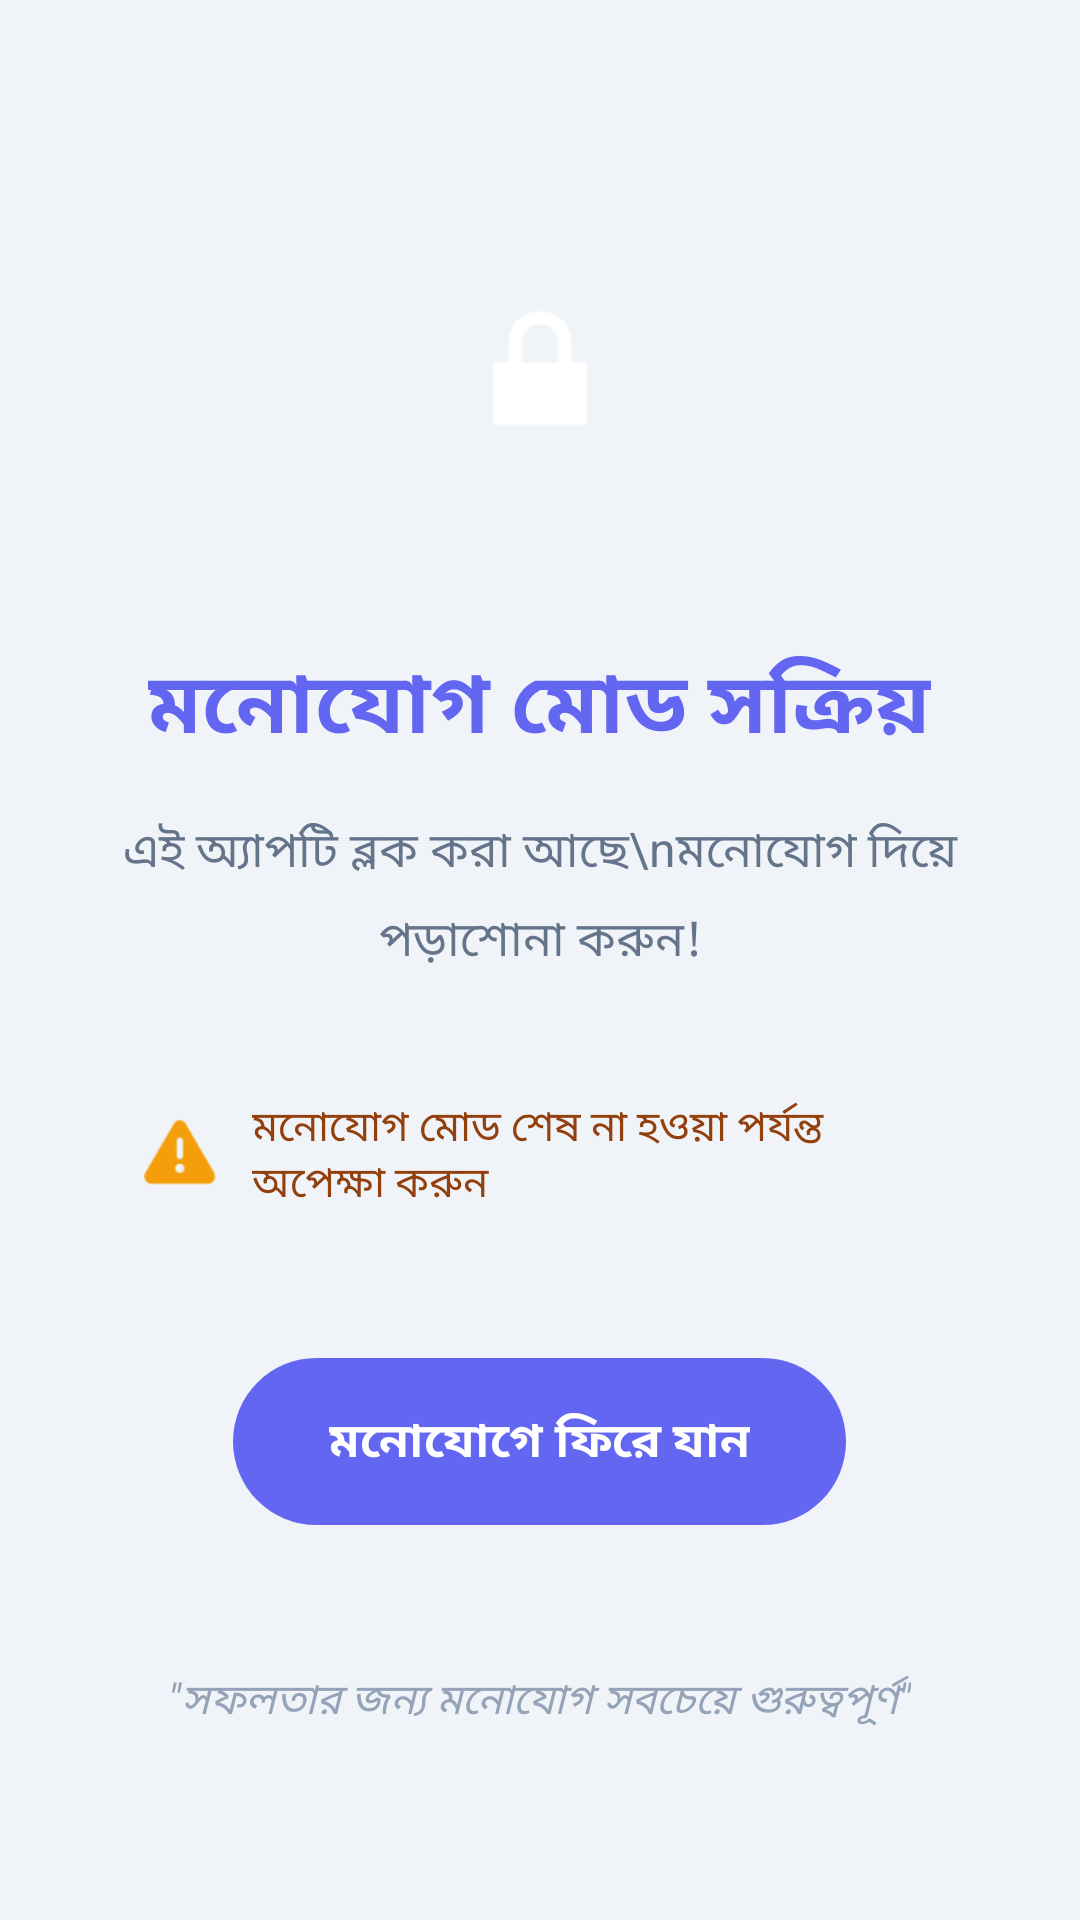

Icon click points for this 1080px×1920px phone screenshot, format [x,y]:
alert: [180,1152]
